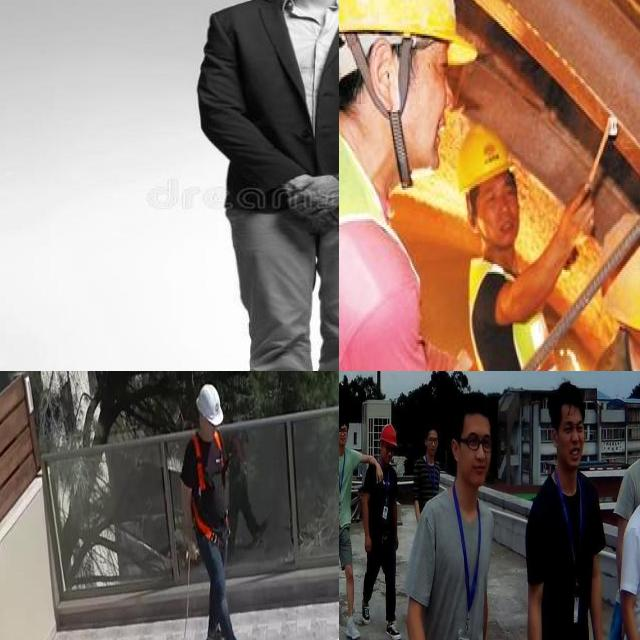No_Ear-Protection: (450, 384, 492, 490), (548, 376, 586, 474), (368, 39, 397, 119), (421, 421, 442, 465), (339, 410, 352, 454)
hand_noglove: (277, 153, 339, 231), (554, 194, 594, 267)
head_helmet: (339, 0, 476, 64), (457, 129, 511, 191), (604, 248, 640, 328), (604, 213, 636, 258)
person: (193, 0, 339, 371)
